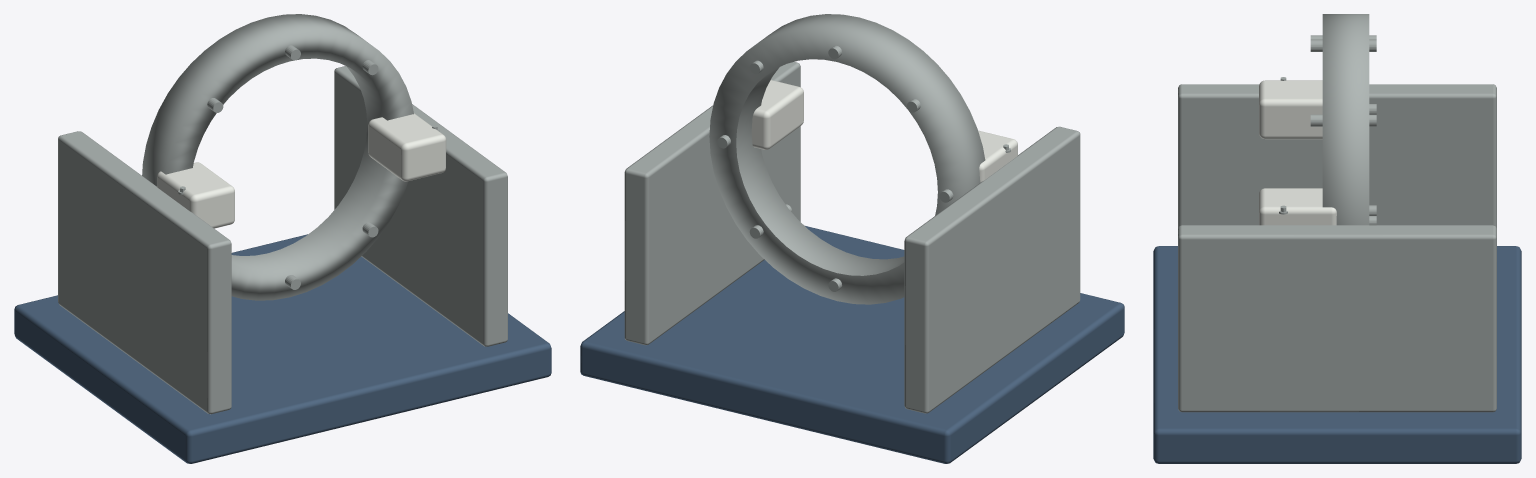
File: spacecraft-parachute-packing-hall-spacecraft-parachute-1f0ab340__32118.glb
3 renders of one model, left to right at view 1: azimuth 30°, elevation 25°; view 2: azimuth 150°, elevation 25°; view 3: azimuth 270°, elevation 25°, orthographic. The views are drawn at different scales.
Parts seen in each view (by area): view 1: spacecraft-parachute-packing-hall-capsule-recovery-fixture; view 2: spacecraft-parachute-packing-hall-capsule-recovery-fixture; view 3: spacecraft-parachute-packing-hall-capsule-recovery-fixture.
Part boxes in pixels (box(x1,y1,x2,y2)): spacecraft-parachute-packing-hall-capsule-recovery-fixture: box(14, 14, 551, 463); spacecraft-parachute-packing-hall-capsule-recovery-fixture: box(580, 14, 1124, 463); spacecraft-parachute-packing-hall-capsule-recovery-fixture: box(1153, 14, 1521, 463).
Bounding box in the file's own units: 1.8 × 1.55 × 1.5.
